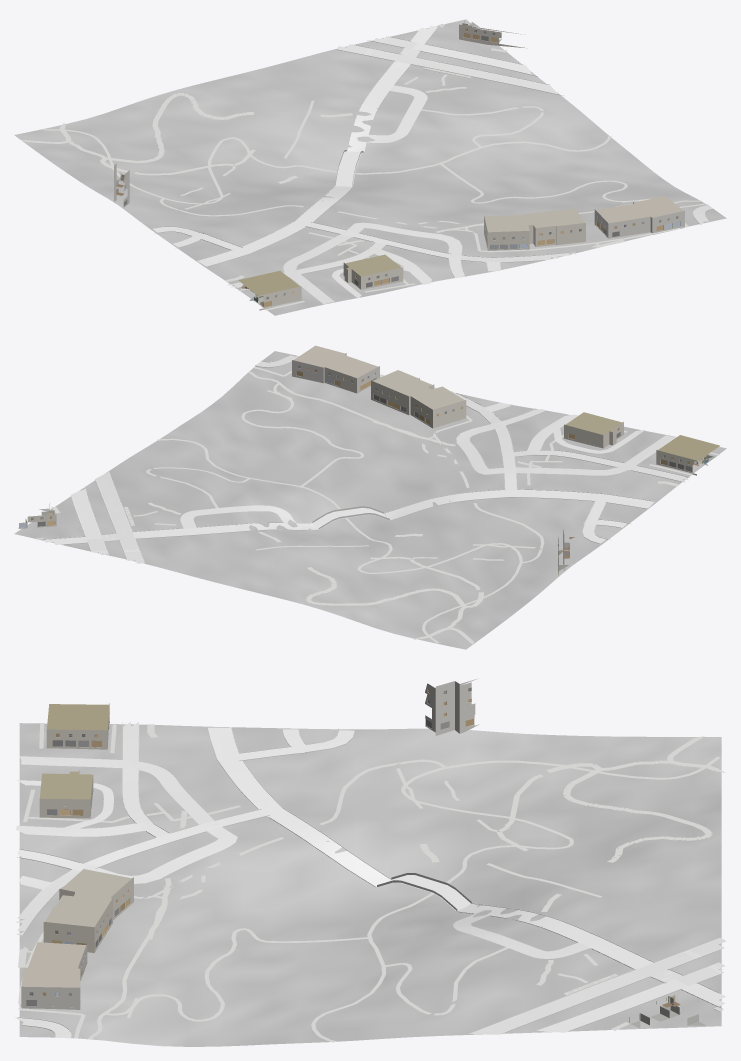
3 renders of one model, top to bottom at view 1: azimuth 30°, elevation 25°; view 2: azimuth 150°, elevation 25°; view 3: azimuth 270°, elevation 25°, orthographic. The views are drawn at different scales.
Parts seen in each view (by area): view 1: ground, concrete, walk, wall_com, roof_flat, asphalt, curb, glass_lit; view 2: ground, concrete, walk, wall_com, roof_flat, asphalt, curb, glass_lit; view 3: ground, concrete, walk, roof_flat, wall_com, asphalt, curb, room, glass, glass_lit.
Boxes of the visible parts, bbox=[...] form: ground: bbox=[14, 19, 726, 315]; concrete: bbox=[152, 48, 713, 304]; walk: bbox=[20, 24, 705, 310]; wall_com: bbox=[114, 24, 684, 310]; roof_flat: bbox=[238, 195, 683, 296]; asphalt: bbox=[335, 25, 557, 186]; curb: bbox=[152, 25, 713, 288]; glass_lit: bbox=[125, 28, 680, 306]; ground: bbox=[14, 351, 726, 649]; concrete: bbox=[102, 355, 688, 543]; walk: bbox=[36, 367, 719, 644]; wall_com: bbox=[19, 353, 696, 575]; roof_flat: bbox=[294, 345, 719, 461]; asphalt: bbox=[44, 472, 387, 563]; curb: bbox=[40, 355, 689, 562]; glass_lit: bbox=[19, 367, 689, 571]; ground: bbox=[19, 723, 721, 1046]; concrete: bbox=[15, 722, 682, 1038]; walk: bbox=[18, 723, 725, 1042]; roof_flat: bbox=[21, 704, 131, 987]; wall_com: bbox=[21, 678, 479, 1009]; asphalt: bbox=[387, 875, 726, 1034]; curb: bbox=[17, 722, 723, 1037]; room: bbox=[44, 705, 706, 1028]; glass: bbox=[26, 688, 471, 1006]; glass_lit: bbox=[42, 689, 474, 995].
Bounding box in the file's own units: 262 × 28.67 × 254.
